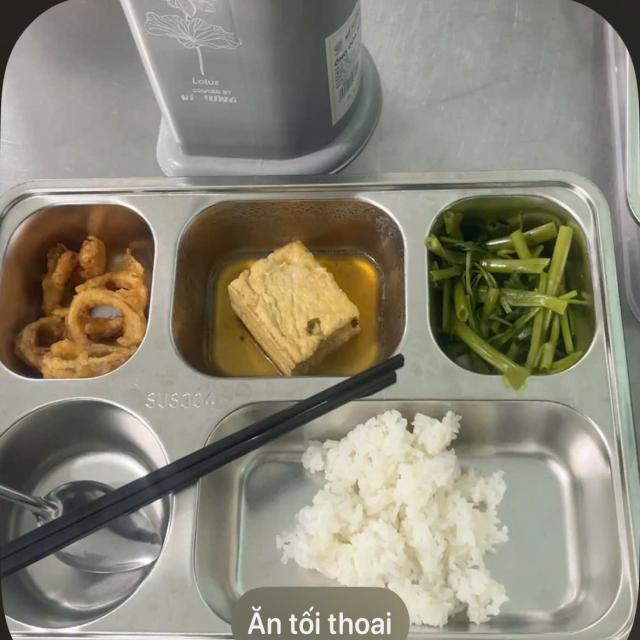com_trang: (277, 436, 551, 626)
dau_hu_sot_ca: (213, 238, 367, 367)
ga_chien: (32, 233, 151, 378)
rau_muong_xao: (436, 216, 588, 358)
